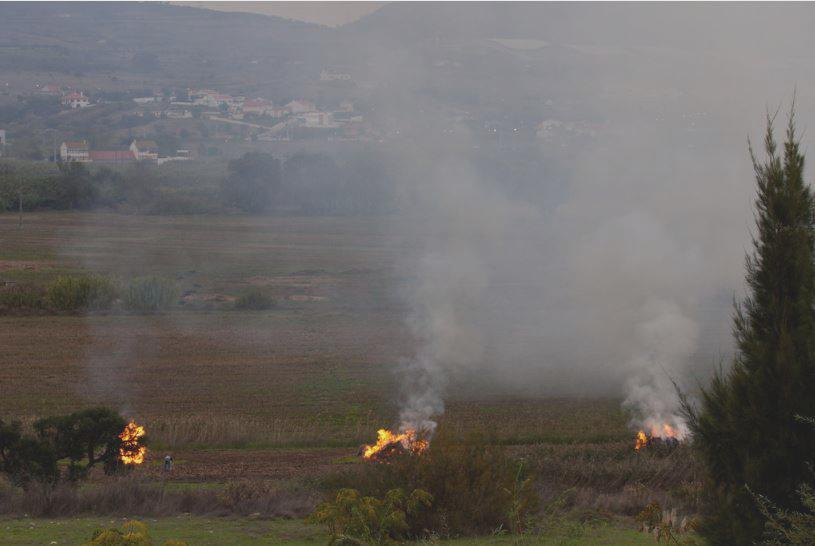fire: (362, 425, 426, 460), (114, 417, 143, 465), (631, 419, 675, 448)
